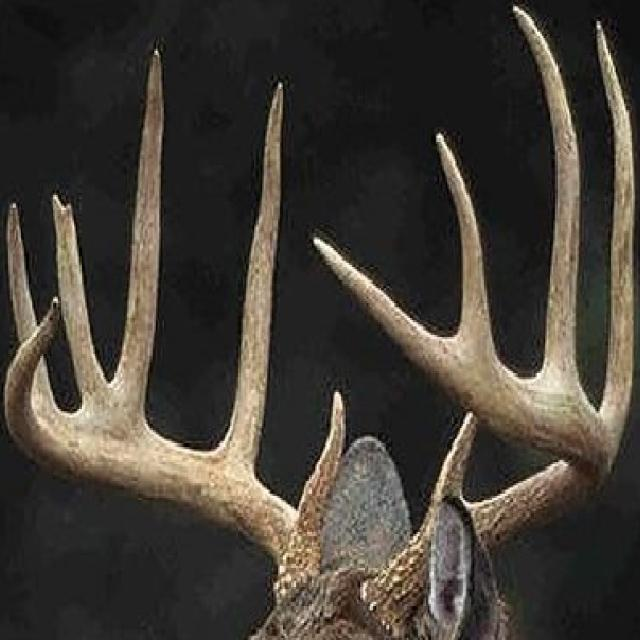L-G1: (421, 411, 480, 527)
L-G2: (596, 19, 635, 464)
L-G3: (509, 3, 585, 394)
L-G4: (435, 127, 498, 361)
R-G1: (295, 389, 347, 542)
R-G2: (215, 77, 284, 474)
R-G3: (82, 48, 165, 421)
R-G4: (52, 191, 108, 405)
